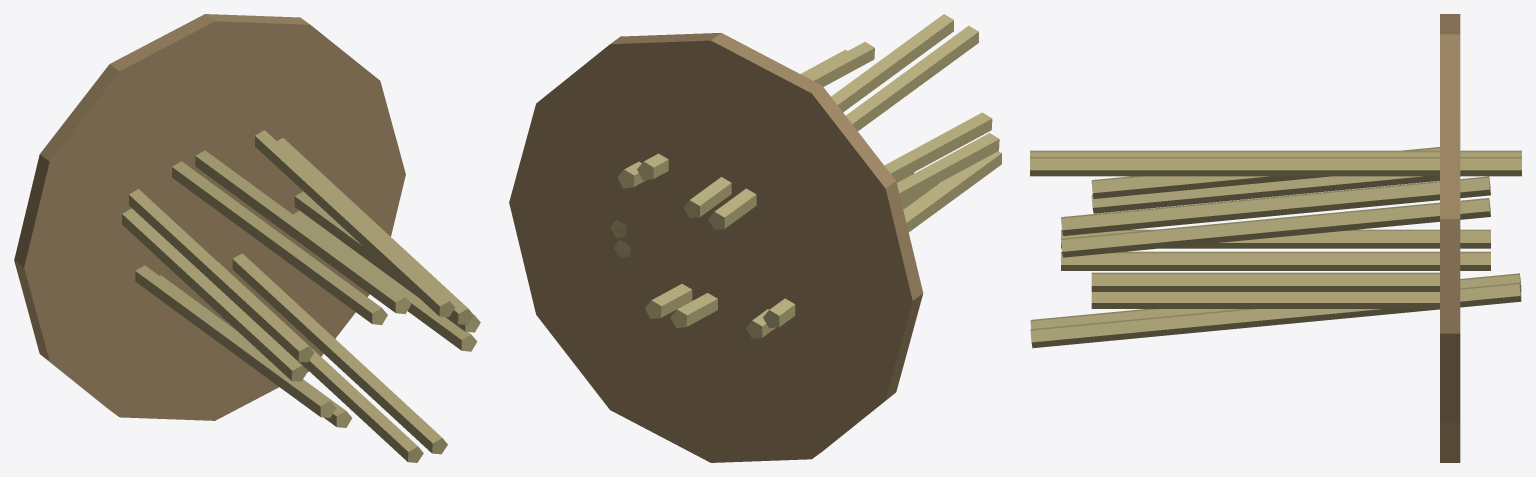
The model's file is swamp_reed_cluster.glb.
The picture shows the model from 3 angles, left to right: view 1: azimuth 30°, elevation 25°; view 2: azimuth 150°, elevation 25°; view 3: azimuth 270°, elevation 25°; orthographic projection. The views are drawn at different scales.
Visible parts, largest first — view 1: mud_patch, reed_5, reed_8, reed_2, reed_1, reed_3, reed_9, reed_10, reed_11, reed_6, reed_7, reed_0 (+1 smaller); view 2: mud_patch, reed_2, reed_8, reed_10, reed_9, reed_3, reed_1, reed_11, reed_5, reed_7, reed_4; view 3: reed_8, mud_patch, reed_1, reed_7, reed_4, reed_5, reed_0, reed_6, reed_3, reed_10, reed_2, reed_9 (+1 smaller).
Boxes of the visible parts, x1,y1,x2,y2 form: mud_patch: [14, 14, 405, 420]; reed_5: [232, 253, 447, 454]; reed_8: [195, 150, 411, 314]; reed_2: [172, 161, 387, 324]; reed_1: [255, 130, 455, 317]; reed_3: [122, 208, 307, 381]; reed_9: [129, 189, 314, 362]; reed_10: [135, 265, 335, 417]; reed_11: [218, 262, 423, 462]; reed_6: [293, 210, 477, 351]; reed_7: [277, 138, 473, 324]; reed_0: [294, 191, 480, 332]; mud_patch: [509, 33, 923, 462]; reed_2: [708, 25, 978, 229]; reed_8: [683, 14, 953, 218]; reed_10: [763, 151, 1001, 328]; reed_9: [884, 112, 992, 181]; reed_3: [897, 133, 999, 202]; reed_1: [637, 42, 874, 180]; reed_11: [670, 183, 939, 328]; reed_5: [645, 172, 914, 318]; reed_7: [617, 49, 847, 188]; reed_4: [746, 177, 950, 338]; reed_8: [1030, 157, 1521, 176]; mud_patch: [1440, 14, 1460, 462]; reed_1: [1061, 176, 1490, 235]; reed_7: [1061, 198, 1490, 257]; reed_4: [1061, 251, 1490, 270]; reed_5: [1030, 282, 1521, 348]; reed_0: [1091, 272, 1439, 291]; reed_6: [1091, 292, 1439, 308]; reed_3: [1091, 176, 1439, 213]; reed_10: [1061, 229, 1490, 248]; reed_2: [1030, 150, 1521, 156]; reed_9: [1091, 147, 1439, 198].
Size of the model in its own units: 1.1 by 1.1 by 1.2.
